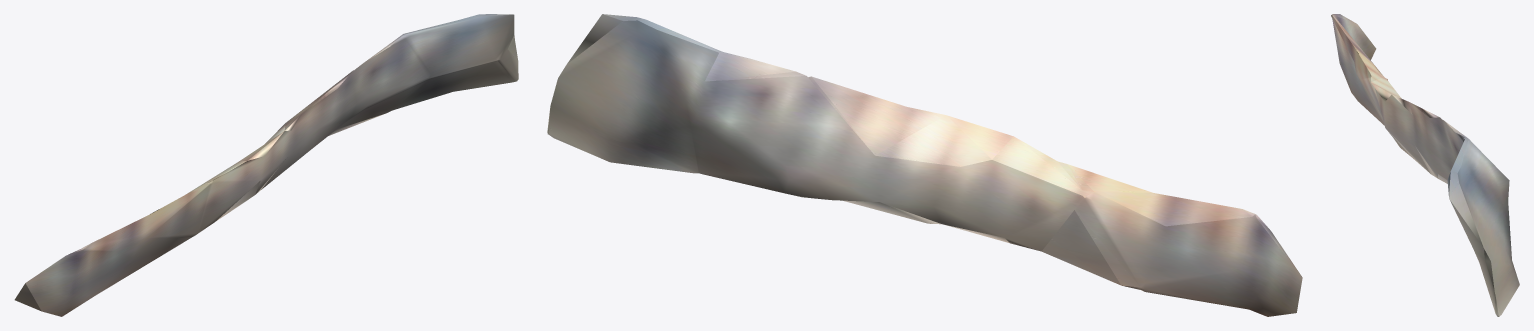
3 renders of one model, left to right at view 1: azimuth 30°, elevation 25°; view 2: azimuth 150°, elevation 25°; view 3: azimuth 270°, elevation 25°, orthographic. The views are drawn at different scales.
Visible parts, largest first — view 1: world; view 2: world; view 3: world.
Boxes of the visible parts, x1,y1,x2,y2 form: world: (14,14,518,316); world: (547,14,1302,316); world: (1331,14,1519,316).
Bounding box in the file's own units: 0.1595 × 0.0434 × 0.0392.
1 material, 1 textured.
